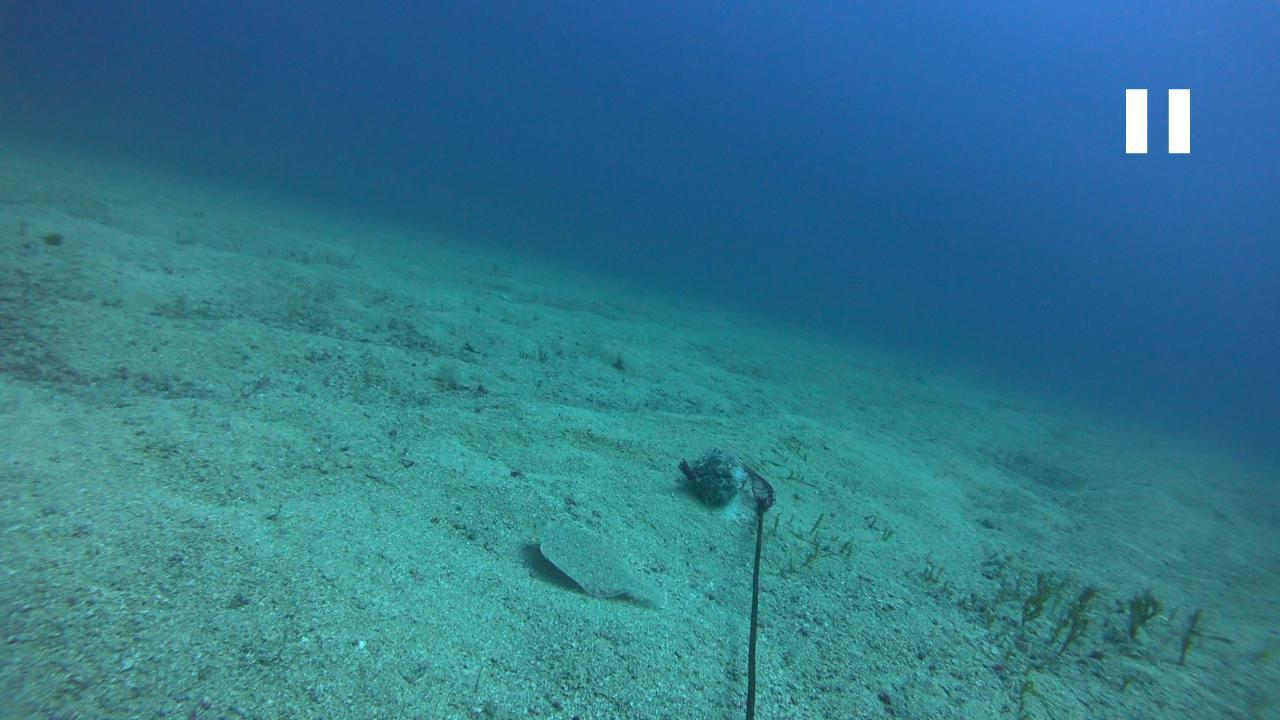bothus: (532, 508, 675, 616)
